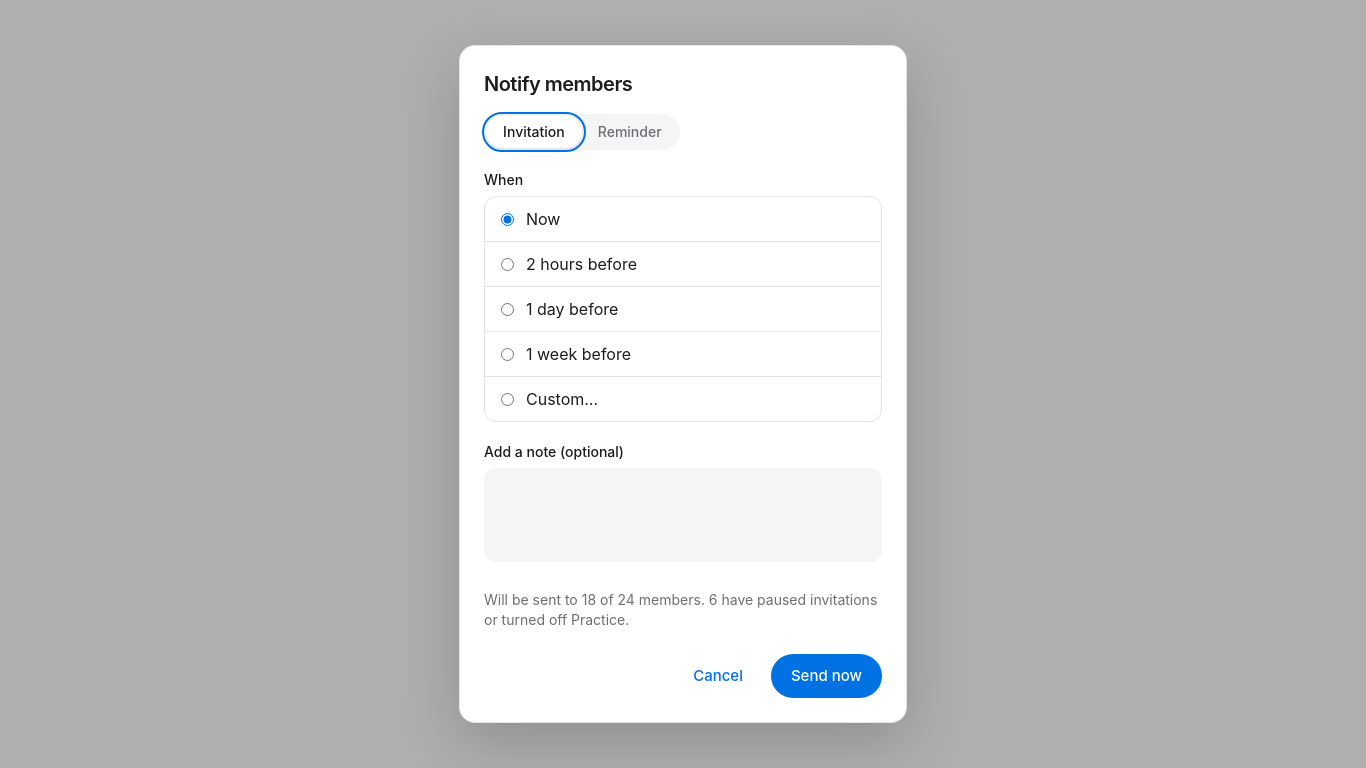
Test: ScheduleNotificationDialog › shows server field errors under the matching field
The width and height of the screenshot is (1366, 768).
Click the radio button named "timing" at (508, 399), box top-left (501, 392), bottom-right (514, 406)
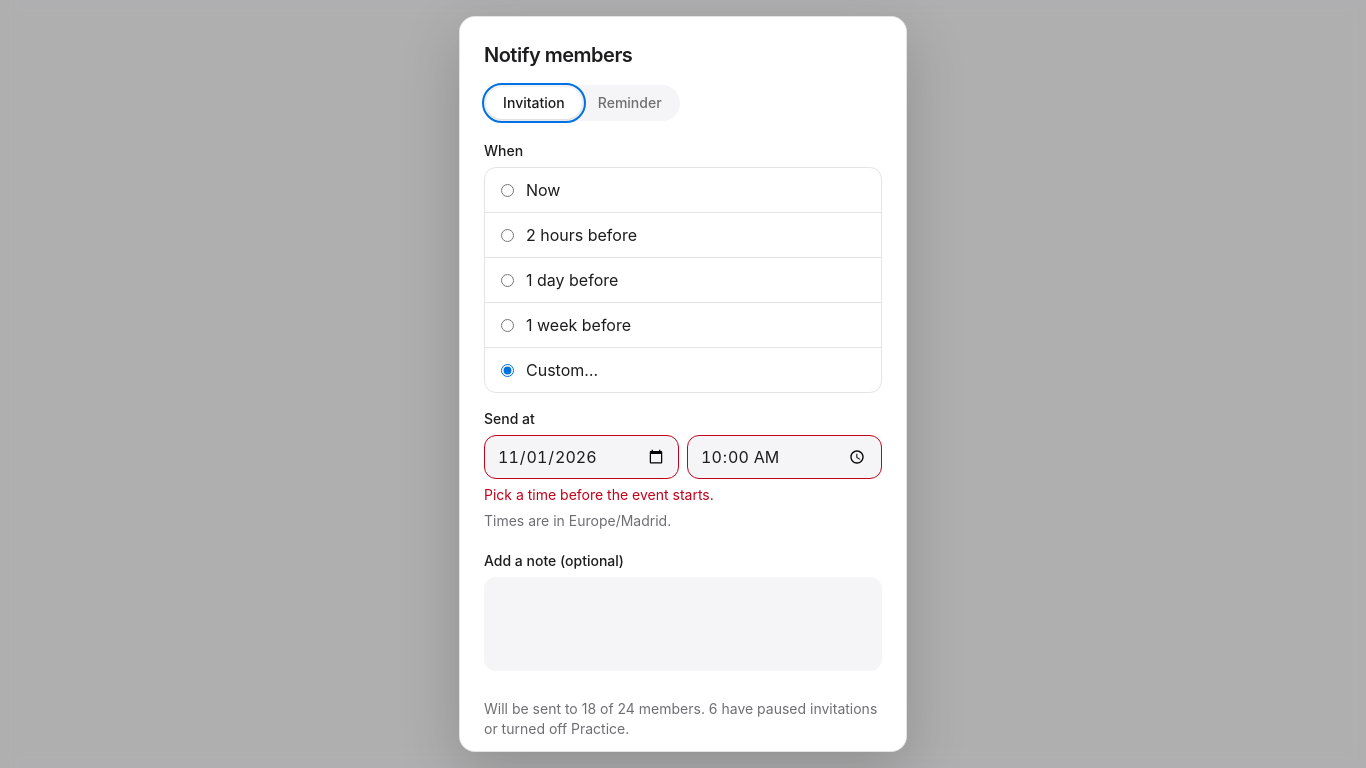
Check: the text "Pick a time before the event starts." is shown, box top-left (484, 486), bottom-right (714, 503)
